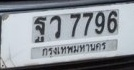txt12: (32, 16, 46, 42)
txt32: (49, 14, 62, 39)
